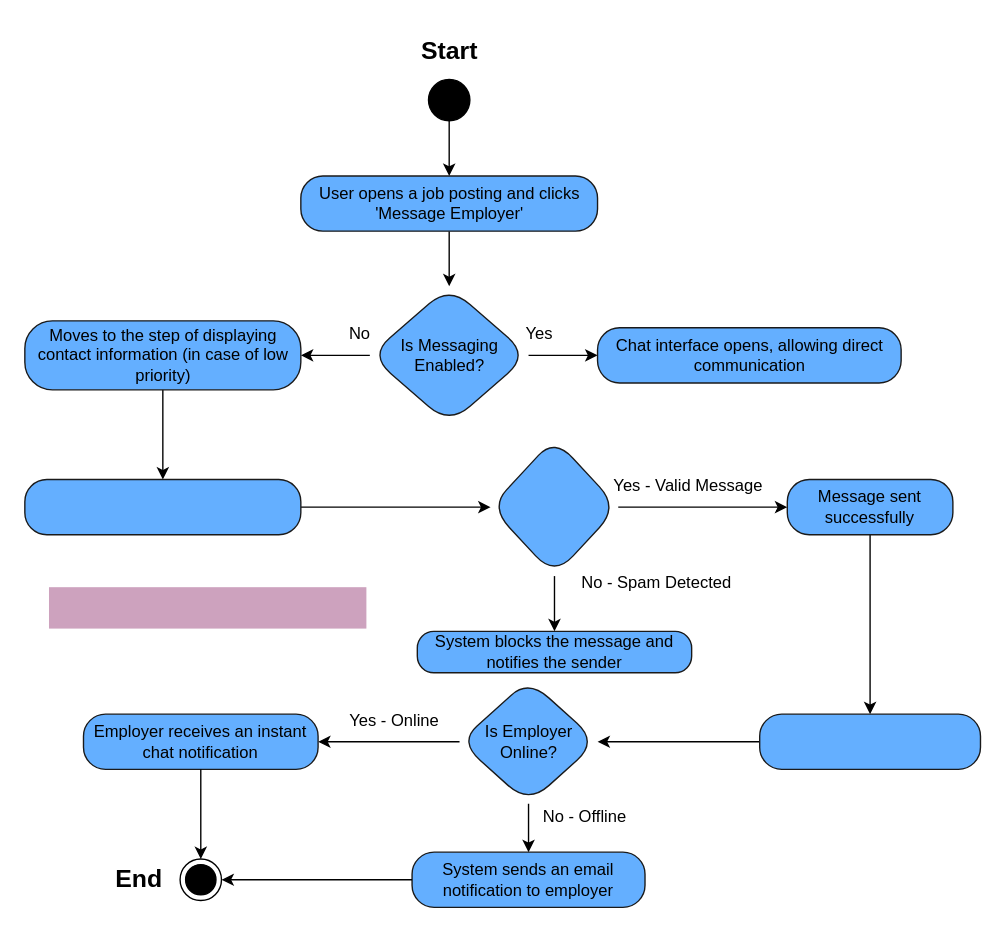
The diagram is 1005 pixels wide and 932 high, and some of its shapes have lost their labels. The box of each missing label's shape, as (x1, y1, x2, y2) in pixels:
Activity Diagram for Messaging System: (48, 586, 366, 628)
Is Message Valid?: (489, 437, 618, 576)
System notifies recipient of new message: (758, 713, 980, 769)
User types and sends a message: (23, 478, 301, 535)
